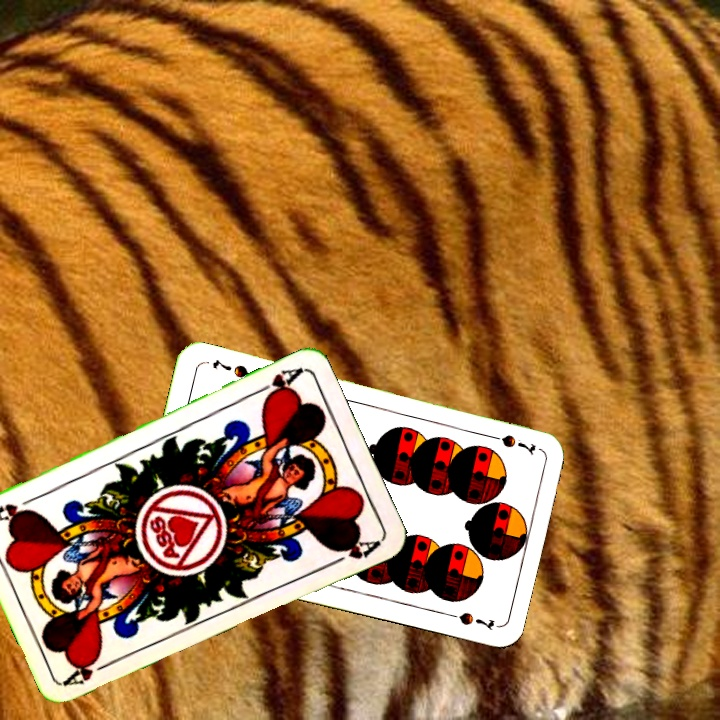HA: (249, 363, 305, 403), (61, 654, 119, 689)
S7: (482, 430, 538, 456)
